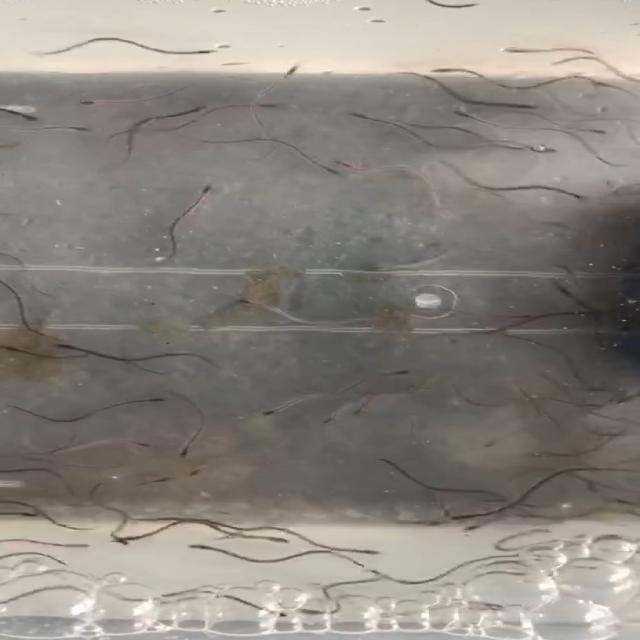active_glass_eel: (577, 396, 634, 413), (428, 508, 480, 526), (255, 400, 298, 420), (126, 392, 170, 407), (234, 100, 288, 112), (340, 544, 386, 558), (312, 408, 352, 424), (506, 95, 542, 112), (178, 542, 221, 556), (171, 438, 196, 462), (94, 535, 144, 547), (335, 109, 381, 122), (245, 534, 291, 546), (70, 96, 109, 110), (330, 157, 369, 171), (191, 183, 225, 199), (314, 159, 344, 177), (552, 186, 590, 200), (382, 363, 417, 378), (575, 124, 612, 138), (145, 472, 177, 488), (418, 65, 464, 76), (276, 63, 305, 80), (454, 520, 498, 531), (452, 106, 482, 122), (1, 511, 41, 523), (524, 142, 558, 156), (472, 436, 508, 449), (10, 110, 48, 122), (494, 42, 528, 55), (58, 125, 94, 137), (188, 462, 215, 478), (115, 438, 157, 448), (46, 341, 84, 352), (0, 342, 26, 358), (500, 310, 534, 322), (174, 104, 203, 118), (104, 530, 128, 546), (234, 295, 263, 308), (183, 46, 217, 56)
